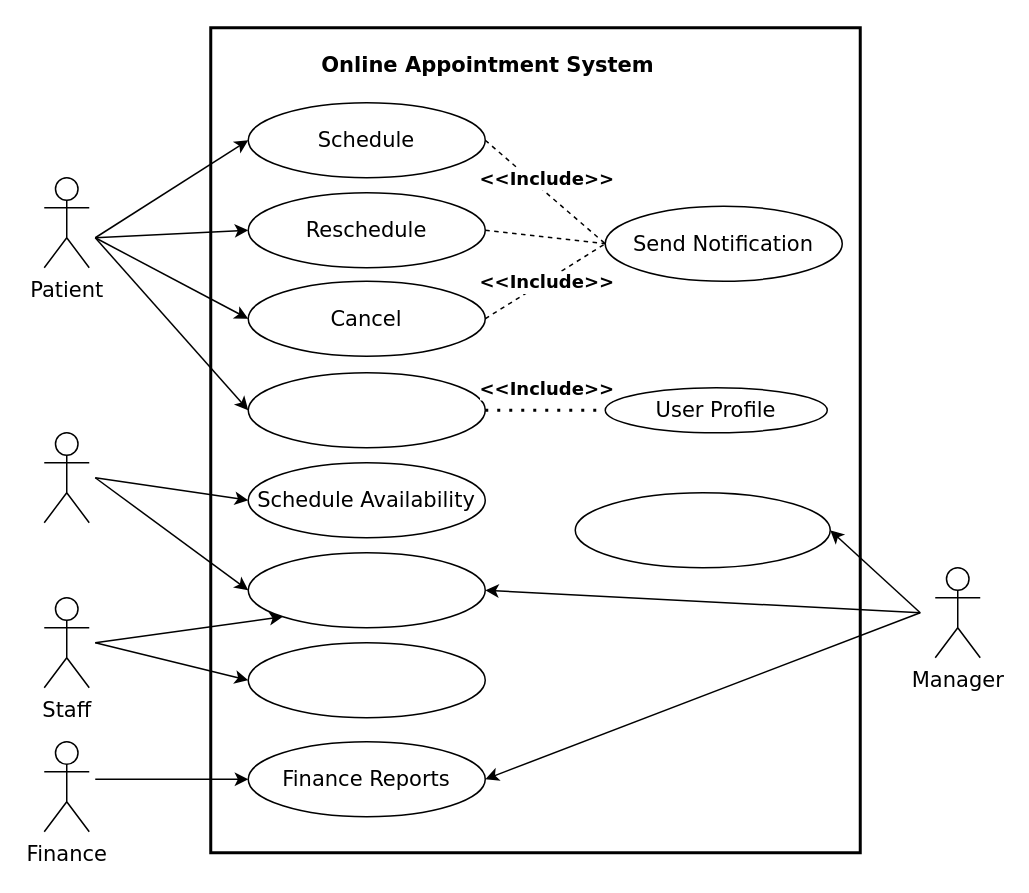
Image size: 1029x893. Some labels were removed from this diagram. Here are the shapes that lost their labels. From the top down, the centre of each, then its label:
the point at 366,409: View History
the point at 66,477: Doctor
the point at 702,529: Manage User
the point at 366,589: Appointment Report
the point at 366,679: Create Schedule
